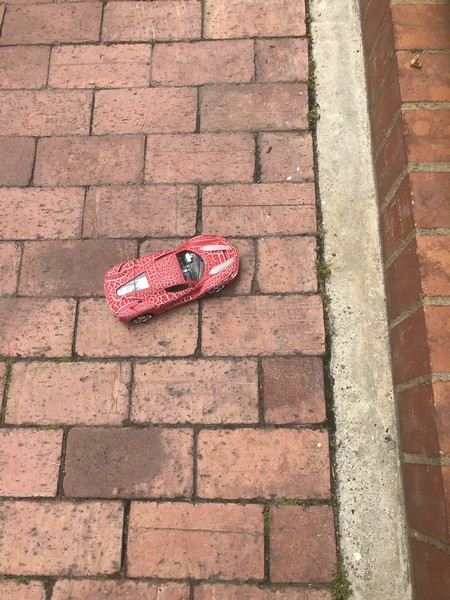RC: (102, 233, 241, 325)
